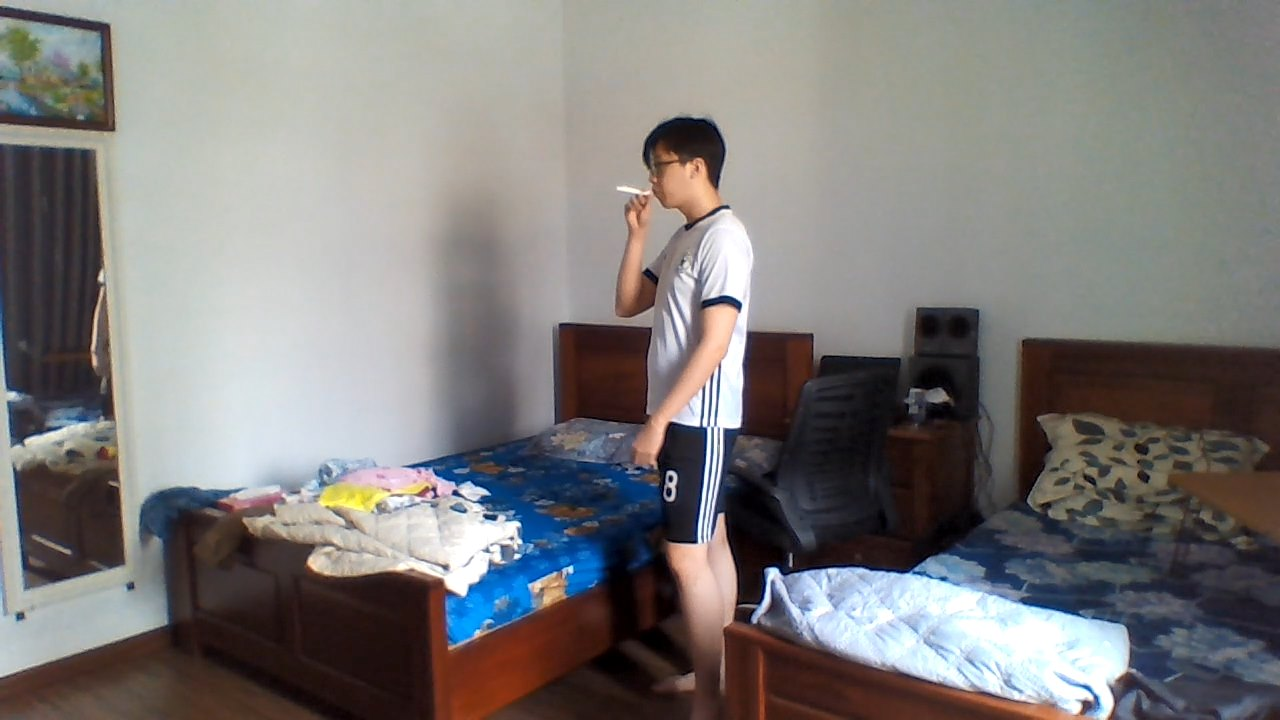cigarette: (616, 183, 656, 198)
person: (591, 100, 791, 720)
